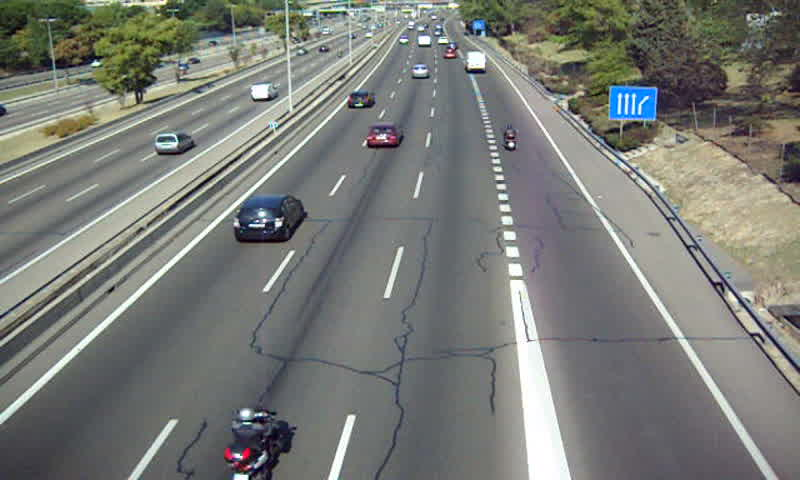car: (233, 194, 304, 242), (365, 123, 403, 149), (349, 90, 376, 110), (409, 64, 428, 79), (440, 48, 458, 60), (397, 34, 410, 45)
motorcycle: (225, 406, 281, 480), (501, 124, 520, 153)
van: (463, 51, 488, 73), (418, 35, 430, 46)
